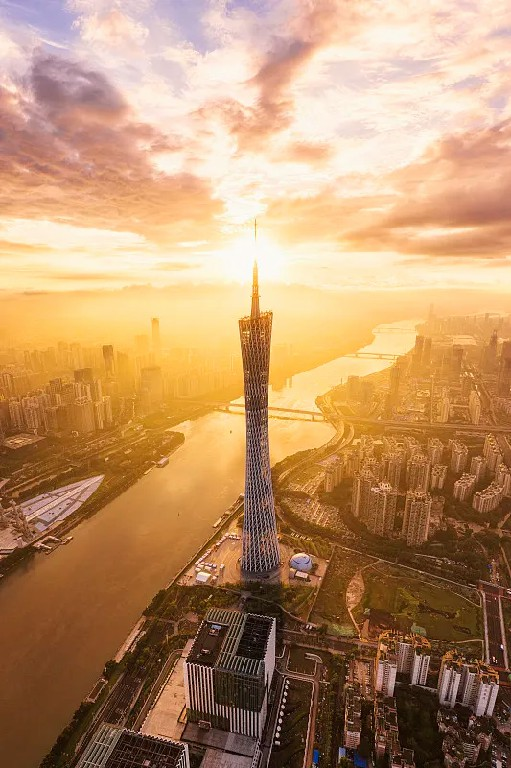Canton: (237, 220, 281, 581)
